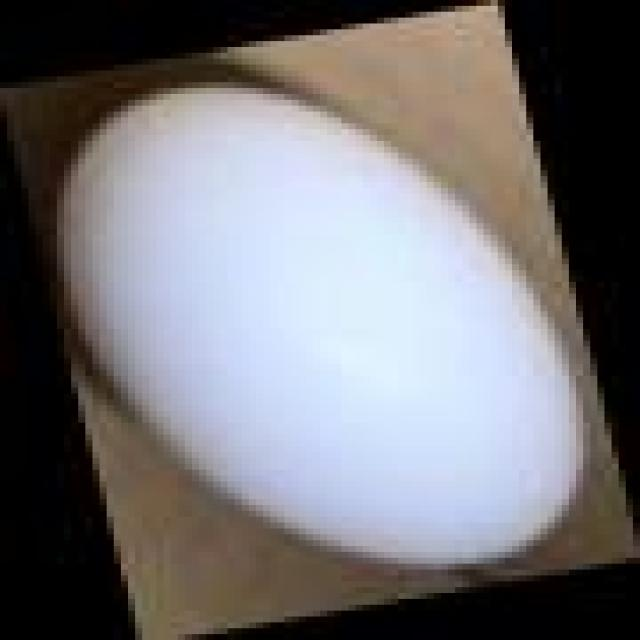Egg: (24, 54, 614, 586)
